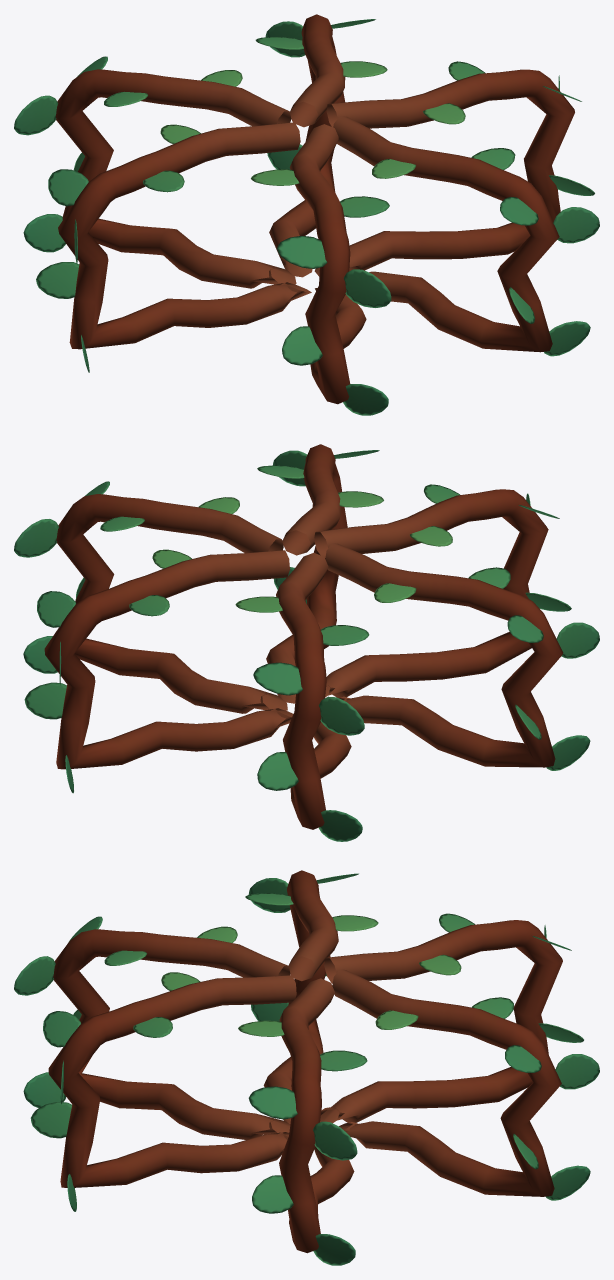
Rendered from 5 Vines.fbx.
3 views of the same model, one above another, from view 1: azimuth 30°, elevation 25°; view 2: azimuth 150°, elevation 25°; view 3: azimuth 270°, elevation 25° (orthographic).
Parts seen in each view (by area): view 1: BezierCurve.014; view 2: BezierCurve.014; view 3: BezierCurve.014.
Part boxes in pixels (x1,y1,x2,y2): BezierCurve.014: [14, 14, 599, 415]; BezierCurve.014: [14, 444, 599, 841]; BezierCurve.014: [14, 870, 599, 1265].
Bounding box in the file's own units: 33.37 × 11.02 × 32.12.
